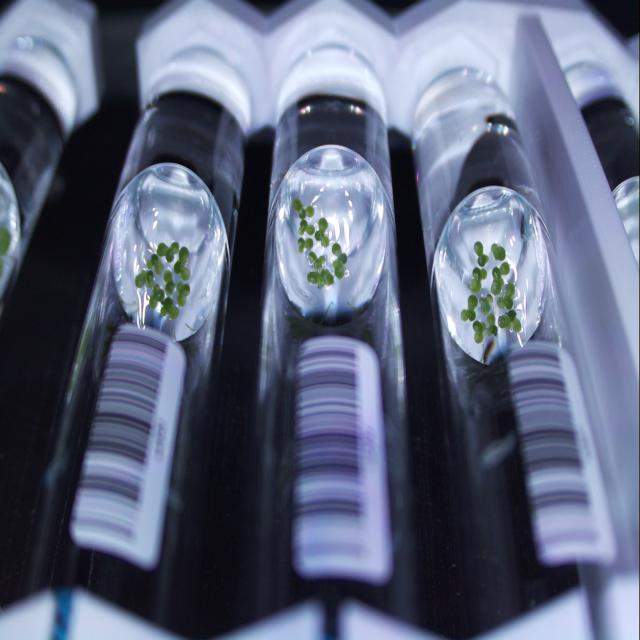Lemna-Gibba: (331, 242, 348, 279), (491, 262, 510, 295), (174, 247, 190, 280), (308, 269, 334, 289), (292, 198, 315, 220), (470, 267, 488, 294), (499, 310, 521, 332), (156, 242, 180, 262), (461, 295, 478, 322), (315, 217, 330, 247), (160, 297, 179, 320), (498, 284, 515, 309), (135, 270, 155, 289), (474, 242, 489, 267), (149, 287, 165, 309), (176, 282, 190, 307), (146, 254, 162, 274), (162, 270, 175, 294), (472, 320, 486, 342), (308, 252, 325, 270), (486, 314, 498, 337), (491, 243, 506, 260), (299, 220, 315, 235), (480, 295, 492, 315), (298, 237, 312, 254), (330, 274, 334, 283)
